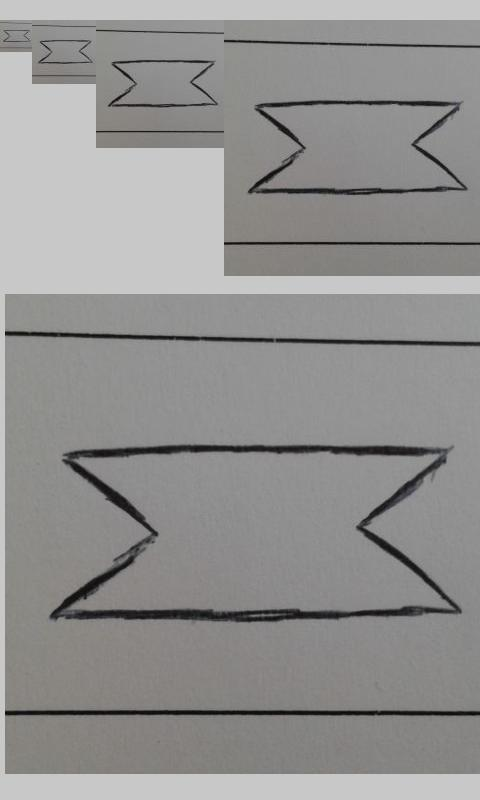edit_text: (50, 442, 461, 625), (247, 99, 469, 196), (108, 59, 218, 108), (38, 39, 93, 65), (3, 29, 31, 43)
